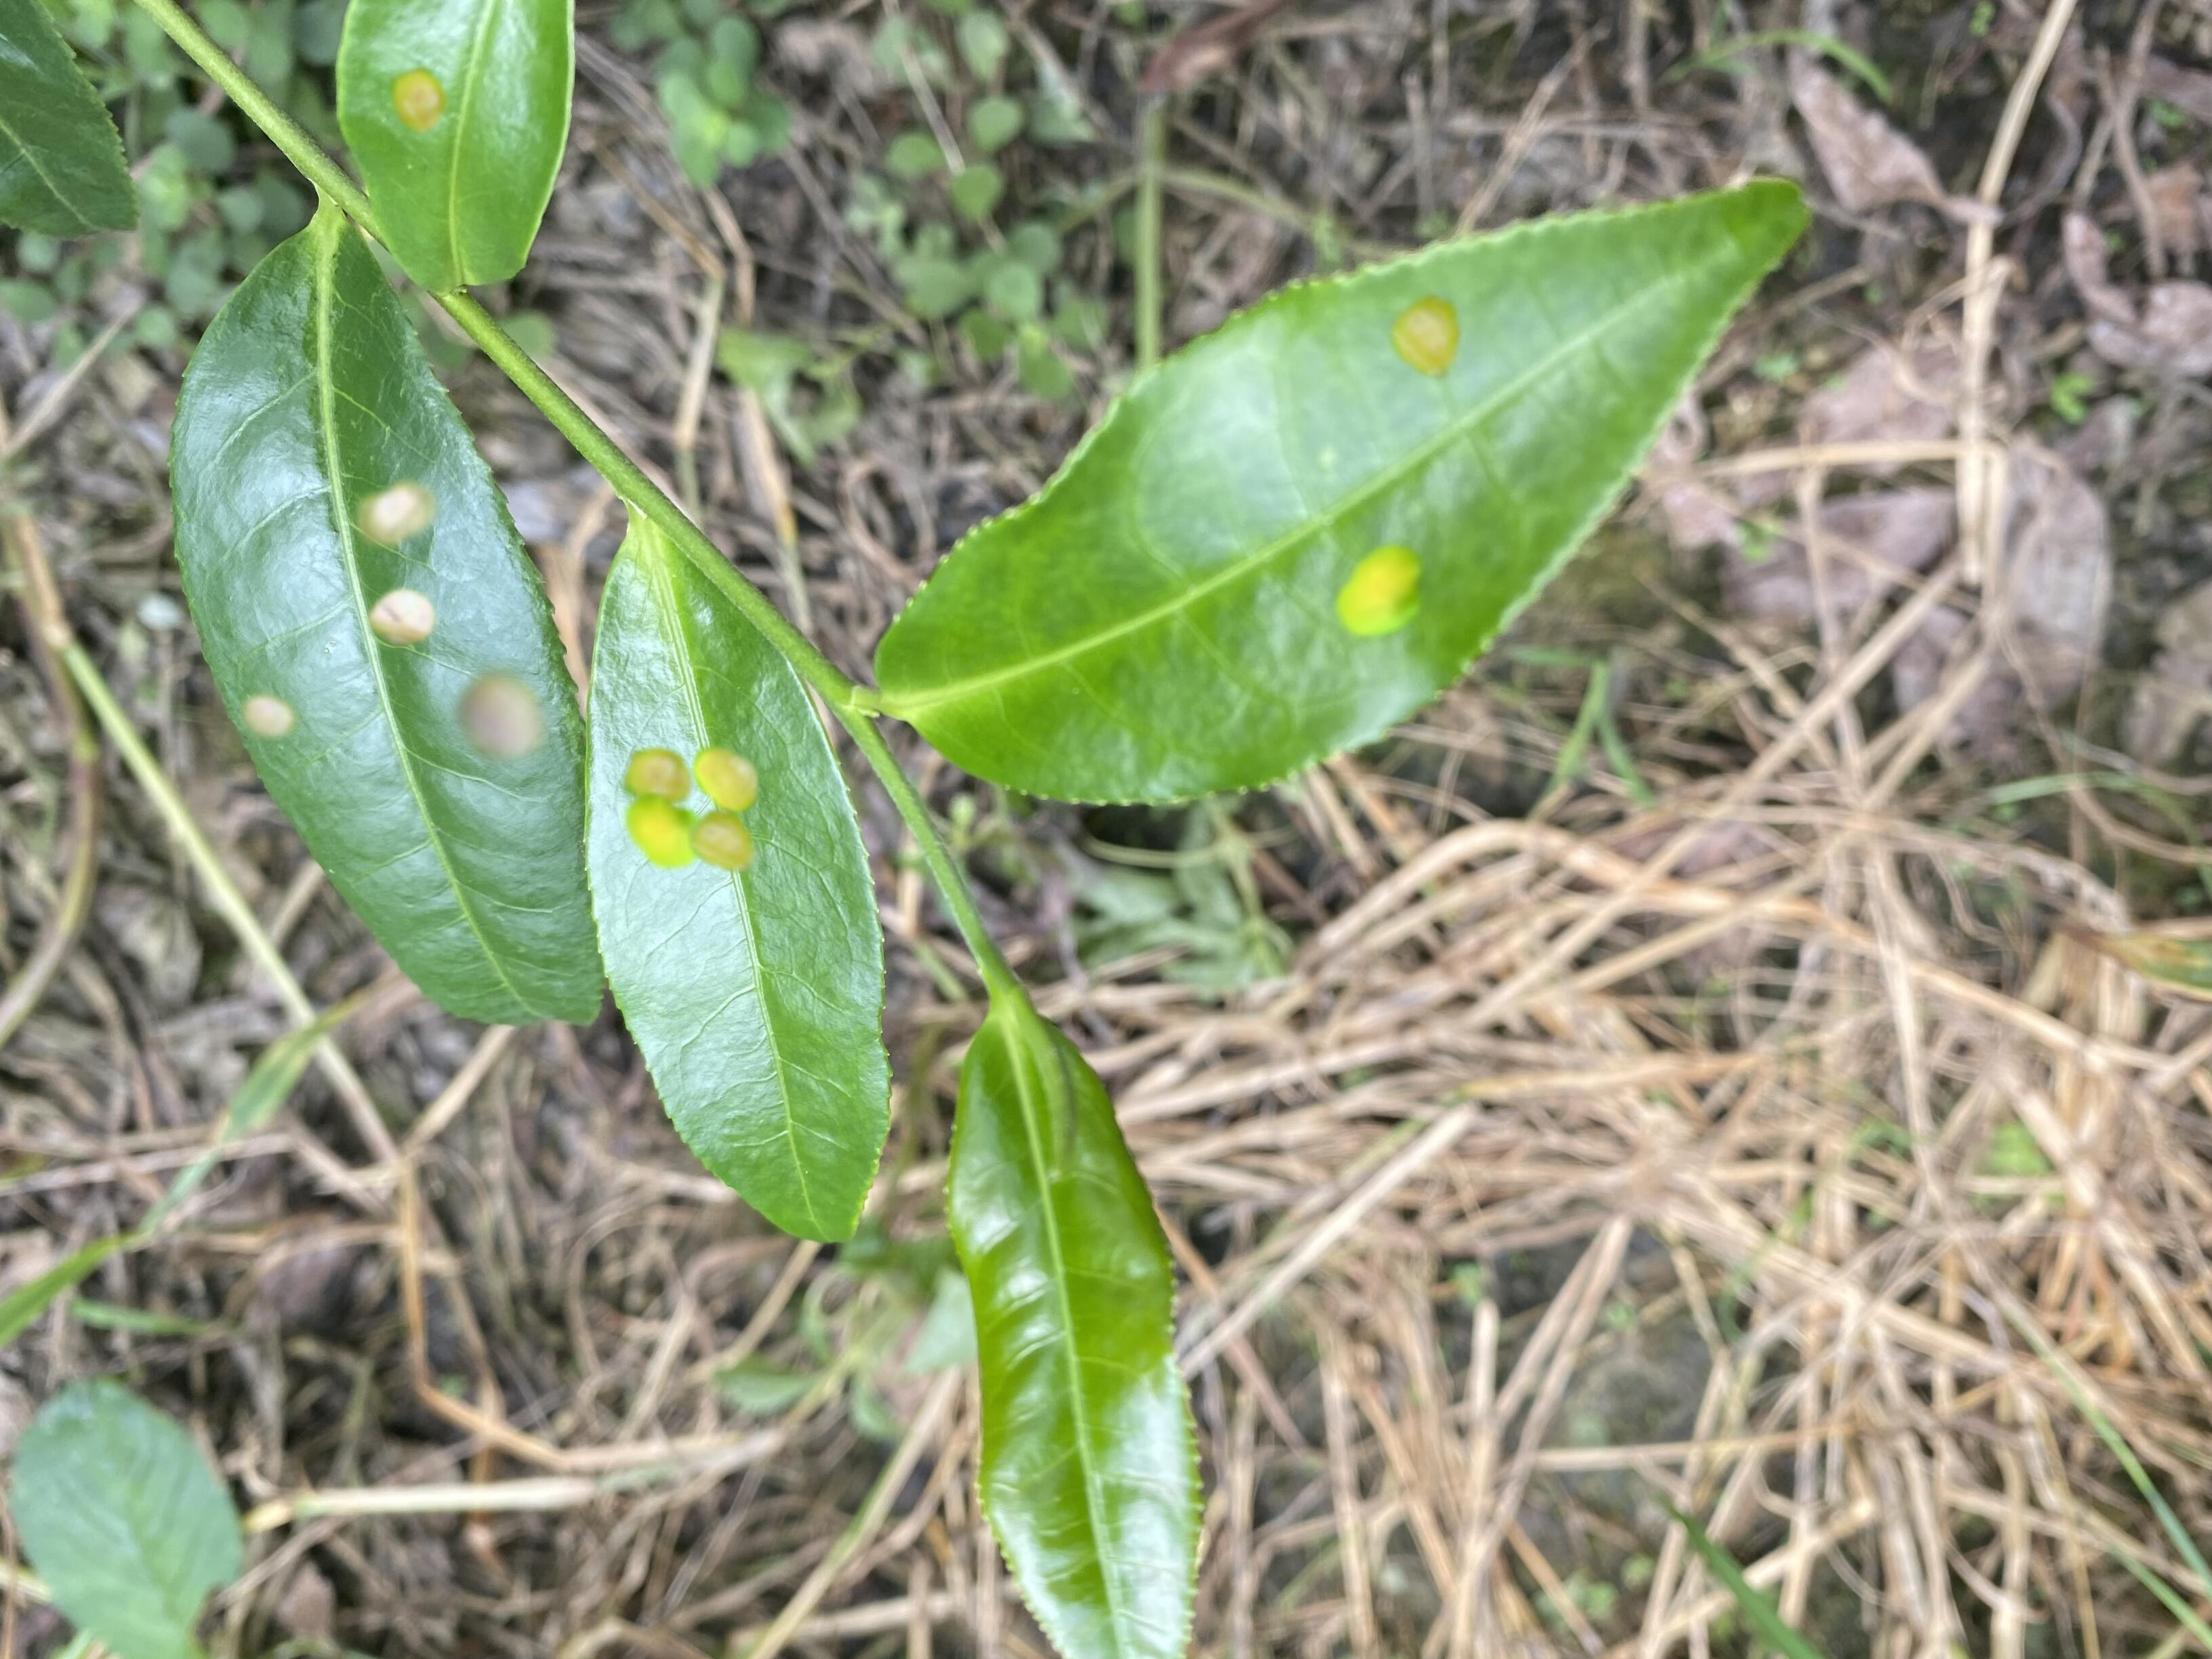chabing_high: (873, 176, 1813, 809), (167, 216, 604, 1028), (583, 521, 895, 1244)
chabing_low: (331, 2, 580, 295)
healthy: (941, 1009, 1204, 1656), (3, 3, 138, 242)
